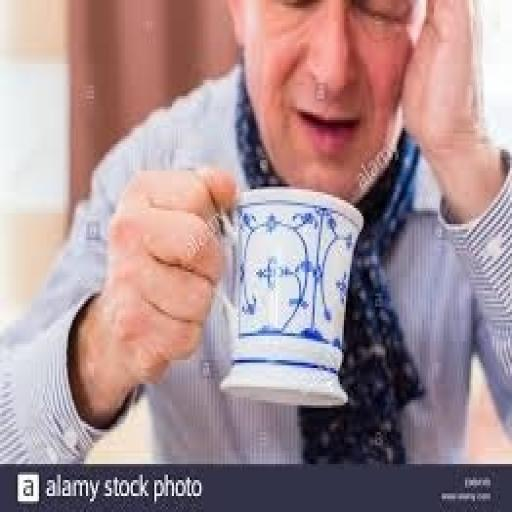drinking: (209, 184, 364, 408)
